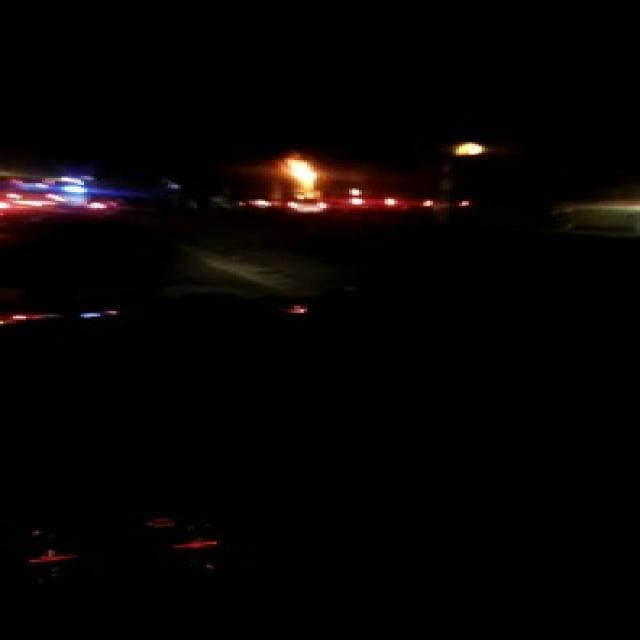Fire: (272, 150, 336, 207), (391, 194, 412, 208), (346, 189, 368, 198), (458, 200, 480, 206), (422, 206, 436, 210)
